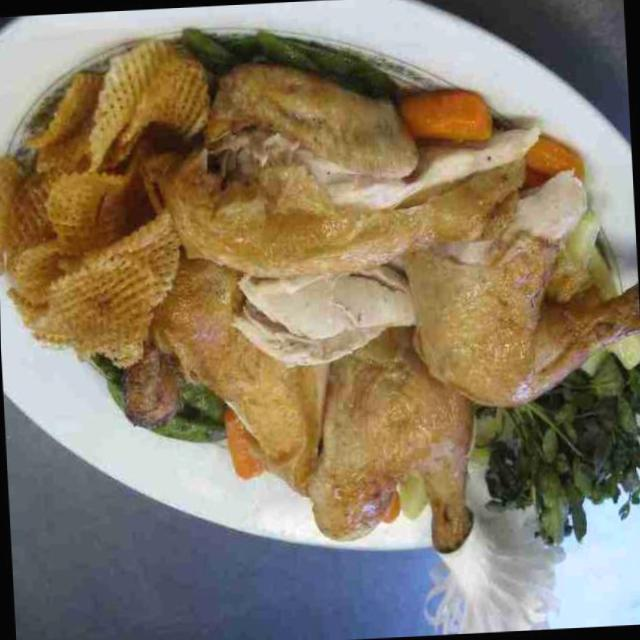Chicken: (164, 56, 543, 535)
